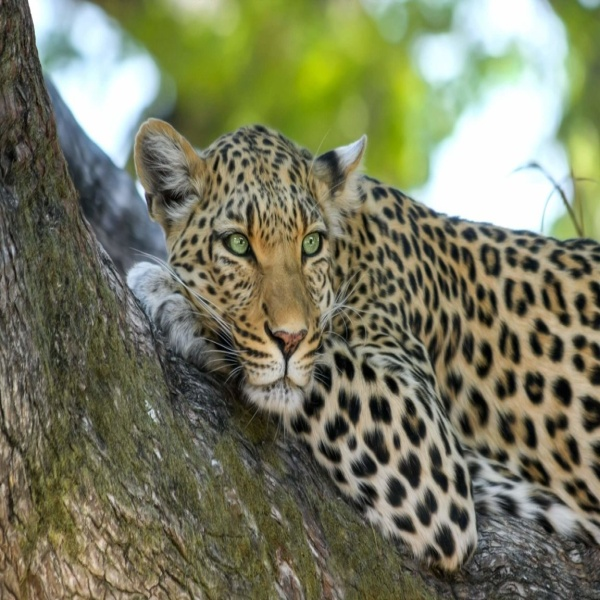Leopard: (124, 111, 600, 580)
